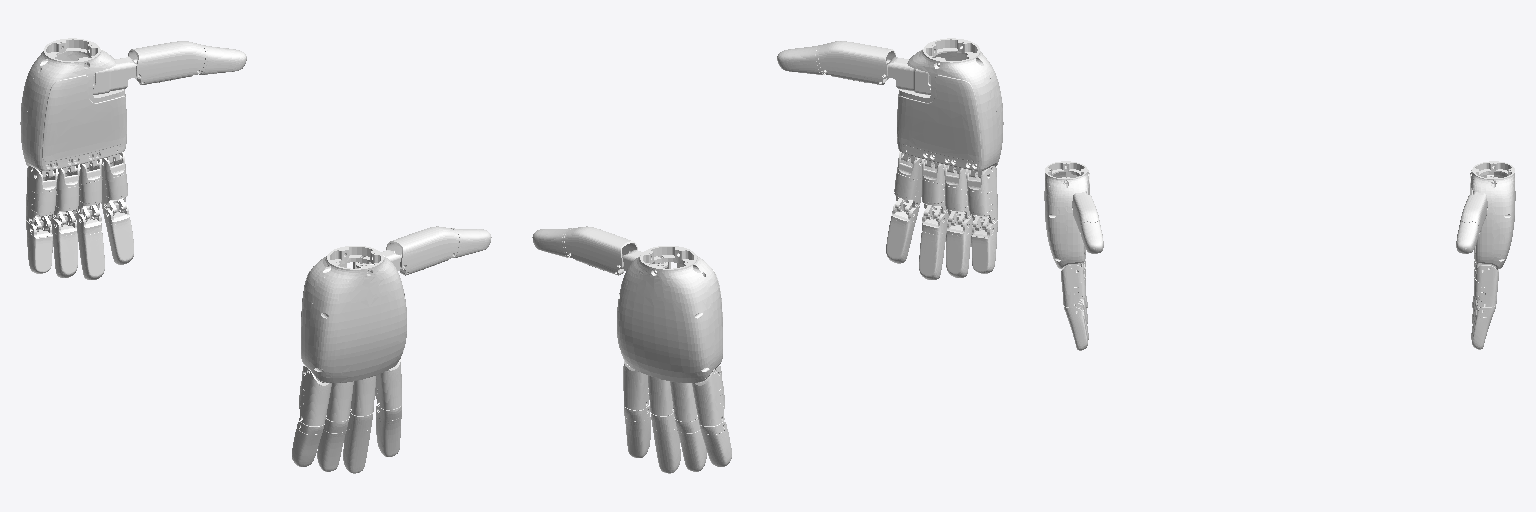
--- Facts derived from the render (not from the file) ---
Views: 3 orthographic renders of the robot side by side, from view 1: azimuth 30°, elevation 25°; view 2: azimuth 150°, elevation 25°; view 3: azimuth 270°, elevation 25°.
Robot: GR1T2_fourier_hand_12dof — 73 links, 72 joints (56 revolute, 16 fixed); root link base_link; default pose: all joints at 0.
Links seen in each view (by area): view 1: R_hand_base_link, L_hand_base_link, L_thumb_proximal_pitch_link, R_thumb_proximal_pitch_link, L_middle_intermediate_link, L_ring_intermediate_link, L_index_intermediate_link, R_pinky_proximal_link, L_pinky_proximal_link, R_middle_intermediate_link, L_pinky_intermediate_link, R_ring_intermediate_link (+11 smaller); view 2: L_hand_base_link, R_hand_base_link, R_thumb_proximal_pitch_link, L_thumb_proximal_pitch_link, R_middle_intermediate_link, R_ring_intermediate_link, R_index_intermediate_link, L_pinky_proximal_link, R_pinky_proximal_link, L_middle_intermediate_link, R_pinky_intermediate_link, L_index_intermediate_link (+11 smaller); view 3: L_hand_base_link, R_hand_base_link, R_index_proximal_link, L_index_proximal_link, R_index_intermediate_link, L_index_intermediate_link, R_thumb_proximal_pitch_link, L_thumb_proximal_pitch_link, L_thumb_distal_link, R_thumb_distal_link.
Link boxes in pixels (x1=…): R_hand_base_link: x1=301, y1=246, x2=406, y2=382; L_hand_base_link: x1=20, y1=38, x2=126, y2=178; L_thumb_proximal_pitch_link: x1=128, y1=41, x2=205, y2=84; R_thumb_proximal_pitch_link: x1=386, y1=226, x2=459, y2=275; L_middle_intermediate_link: x1=75, y1=205, x2=104, y2=279; L_ring_intermediate_link: x1=51, y1=211, x2=77, y2=277; L_index_intermediate_link: x1=102, y1=198, x2=133, y2=264; R_pinky_proximal_link: x1=299, y1=366, x2=331, y2=425; L_pinky_proximal_link: x1=26, y1=166, x2=57, y2=223; R_middle_intermediate_link: x1=343, y1=413, x2=372, y2=473; L_pinky_intermediate_link: x1=26, y1=216, x2=52, y2=273; R_ring_intermediate_link: x1=317, y1=418, x2=348, y2=471; L_hand_base_link: x1=617, y1=246, x2=722, y2=382; R_hand_base_link: x1=897, y1=38, x2=1003, y2=178; R_thumb_proximal_pitch_link: x1=818, y1=41, x2=895, y2=84; L_thumb_proximal_pitch_link: x1=564, y1=226, x2=637, y2=275; R_middle_intermediate_link: x1=919, y1=205, x2=948, y2=279; R_ring_intermediate_link: x1=946, y1=211, x2=972, y2=277; R_index_intermediate_link: x1=886, y1=198, x2=919, y2=263; L_pinky_proximal_link: x1=692, y1=366, x2=724, y2=425; R_pinky_proximal_link: x1=966, y1=166, x2=997, y2=223; L_middle_intermediate_link: x1=651, y1=413, x2=680, y2=473; R_pinky_intermediate_link: x1=971, y1=216, x2=997, y2=273; L_index_intermediate_link: x1=624, y1=404, x2=650, y2=457; L_hand_base_link: x1=1470, y1=161, x2=1515, y2=268; R_hand_base_link: x1=1044, y1=161, x2=1089, y2=268; R_index_proximal_link: x1=1061, y1=263, x2=1085, y2=307; L_index_proximal_link: x1=1474, y1=263, x2=1498, y2=306; R_index_intermediate_link: x1=1064, y1=301, x2=1087, y2=350; L_index_intermediate_link: x1=1472, y1=300, x2=1495, y2=349; R_thumb_proximal_pitch_link: x1=1072, y1=195, x2=1099, y2=233; L_thumb_proximal_pitch_link: x1=1460, y1=195, x2=1487, y2=233; L_thumb_distal_link: x1=1456, y1=221, x2=1478, y2=253; R_thumb_distal_link: x1=1081, y1=221, x2=1103, y2=253.
Size in the robot's own frame: 0.1911 by 0.504 by 0.2001 metres.
26 mesh visuals loaded from 61 distinct referenced files (26 binary STL); not drawn: 35 (file found but could not be loaded).

robot.urdf — GR1T2_fourier_hand_12dof:
<?xml version="1.0" encoding="utf-8"?>

<!-- 02282025-alpha-1 -->

<robot
  name="GR1T2_fourier_hand_12dof">
  <link
    name="base_link">
    <inertial>
      <origin
        xyz="-0.06032 -9.9E-5 -0.008574"
        rpy="0 0 0" />
      <mass
        value="3.96" />
      <inertia
        ixx="0.04109"
        ixy="-6E-6"
        ixz="-0.001996"
        iyy="0.01336"
        iyz="-9E-6"
        izz="0.04269" />
    </inertial>
    <visual>
      <origin
        xyz="0 0 0"
        rpy="0 0 0" />
      <geometry>
        <mesh
          filename="../meshes/gr1t2/base_link.STL" />
      </geometry>
      <material
        name="">
        <color
          rgba="0.752941176470588 0.752941176470588 0.752941176470588 1" />
      </material>
    </visual>
    <collision name="base_link.STL">
      <origin xyz="-0.0425828586396115 0.0003700415157537537 0.009210089875386126" rpy="-1.5715560967510487 0.006752722386712318 -0.006757854813246755"/>
      <geometry>
        <cylinder radius="0.12239433188500067" length="0.1371007021179978"/>
      </geometry>
    </collision>
  </link>
  <link
    name="left_thigh_roll_link">
    <inertial>
      <origin
        xyz="0.001095 2.4e-5 0.001761"
        rpy="0 0 0" />
      <mass
        value="1.47" />
      <inertia
        ixx="0.001575"
        ixy="4e-6"
        ixz="-6e-6"
        iyy="0.002478"
        iyz="-9e-6"
        izz="0.002575" />
    </inertial>
    <visual>
      <origin
        xyz="0 0 0"
        rpy="0 0 0" />
      <geometry>
        <mesh
          filename="../meshes/gr1t2/left_thigh_roll_link.STL" />
      </geometry>
      <material
        name="">
        <color
          rgba="0.752941176470588 0.752941176470588 0.752941176470588 1" />
      </material>
    </visual>
    <!-- <collision>
      <origin
        xyz="0 0 0"
        rpy="0 0 0" />
      <geometry>
        <mesh
          filename="../meshes/gr1t2/left_thigh_roll_link.STL" />
      </geometry>
    </collision> -->
  </link>
  <joint
    name="left_hip_roll_joint"
    type="revolute">
    <origin
      xyz="-0.031635 0.105 -0.0276"
      rpy="0 0 0" />
    <parent
      link="base_link" />
    <child
      link="left_thigh_roll_link" />
    <axis
      xyz="1 0 0" />
    <limit
      lower="-0.09"
      upper="0.79"
      effort="48"
      velocity="12.15" />
  </joint>
  <link
    name="left_thigh_yaw_link">
    <inertial>
      <origin
        xyz="-0.000705 0.0384 -0.1103"
        rpy="0 0 0" />
      <mass
        value="3.47" />
      <inertia
        ixx="0.02003"
        ixy="-0.00165"
        ixz="0.000145"
        iyy="0.02123"
        iyz="0.005516"
        izz="0.01146" />
    </inertial>
    <visual>
      <origin
        xyz="0 0 0"
        rpy="0 0 0" />
      <geometry>
        <mesh
          filename="../meshes/gr1t2/left_thigh_yaw_link.STL" />
      </geometry>
      <material
        name="">
        <color
          rgba="0.752941176470588 0.752941176470588 0.752941176470588 1" />
      </material>
    </visual>
    <!-- <collision>
      <origin
        xyz="0 0 0"
        rpy="0 0 0" />
      <geometry>
        <mesh
          filename="../meshes/gr1t2/left_thigh_yaw_link.STL" />
      </geometry>
    </collision> -->
  </link>
  <joint
    name="left_hip_yaw_joint"
    type="revolute">
    <origin
      xyz="0.033135 0 0.00075"
      rpy="0 0 0" />
    <parent
      link="left_thigh_roll_link" />
    <child
      link="left_thigh_yaw_link" />
    <axis
      xyz="0 0 1" />
    <limit
      lower="-0.7"
      upper="0.7"
      effort="66"
      velocity="16.76" />
  </joint>
  <link
    name="left_thigh_pitch_link">
    <inertial>
      <origin
        xyz="0.001387 -0.02832 -0.0640"
        rpy="0 0 0" />
      <mass
        value="8.35" />
      <inertia
        ixx="0.09287"
        ixy="0.000089"
        ixz="0.001262"
        iyy="0.08956"
        iyz="-0.001832"
        izz="0.02835" />
    </inertial>
    <visual>
      <origin
        xyz="0 0 0"
        rpy="0 0 0" />
      <geometry>
        <mesh
          filename="../meshes/gr1t2/left_thigh_pitch_link.STL" />
      </geometry>
      <material
        name="">
        <color
          rgba="0.752941176470588 0.752941176470588 0.752941176470588 1" />
      </material>
    </visual>
    <collision name="left_thigh_pitch_link.STL">
      <origin xyz="0.0007000513673618543 -0.030 -0.1670560397414535" rpy="0 0 0 "/>
      <geometry>
        <cylinder radius="0.082" length="0.24982894507630515"/>
      </geometry>
    </collision>
  </link>
  <joint
    name="left_hip_pitch_joint"
    type="revolute">
    <origin
      xyz="0 0.0223 -0.14027"
      rpy="0 0 0" />
    <parent
      link="left_thigh_yaw_link" />
    <child
      link="left_thigh_pitch_link" />
    <axis
      xyz="0 1 0" />
    <limit
      lower="-1.75"
      upper="0.7"
      effort="225"
      velocity="37.38" />
  </joint>
  <link
    name="left_shank_pitch_link">
    <inertial>
      <origin
        xyz="0.001482 -0.00080 -0.1154"
        rpy="0 0 0" />
      <mass
        value="1.76" />
      <inertia
        ixx="0.01079"
        ixy="-7e-6"
        ixz="-0.000149"
        iyy="0.01068"
        iyz="-0.000146"
        izz="0.001262" />
    </inertial>
    <visual>
      <origin
        xyz="0 0 0"
        rpy="0 0 0" />
      <geometry>
        <mesh
          filename="../meshes/gr1t2/left_shank_pitch_link.STL" />
      </geometry>
      <material
        name="">
        <color
          rgba="0.752941176470588 0.752941176470588 0.752941176470588 1" />
      </material>
    </visual>
    <collision name="left_shank_pitch_link.STL">
      <origin xyz="-1.659010853856773e-05 -0.000842546786771745 -0.17469107292397335" rpy="-3.1410836913690487 0.0024586308191354433 -2.733338485212507"/>
      <geometry>
        <cylinder radius="0.05332138187428352" length="0.18076995129198576"/>
      </geometry>
    </collision>
  </link>
  <joint
    name="left_knee_pitch_joint"
    type="revolute">
    <origin
      xyz="0 -0.019512 -0.36"
      rpy="0 0 0" />
    <parent
      link="left_thigh_pitch_link" />
    <child
      link="left_shank_pitch_link" />
    <axis
      xyz="0 1 0" />
    <limit
      lower="-0.09"
      upper="1.92"
      effort="225"
      velocity="37.38" />
  </joint>
  <link
    name="left_foot_pitch_link">
    <inertial>
      <origin
        xyz="0 0 0"
        rpy="0 0 0" />
      <mass
        value="0.057" />
      <inertia
        ixx="5.31E-6"
        ixy="0"
        ixz="0"
        iyy="5.65E-6"
        iyz="0"
        izz="6.36E-6" />
    </inertial>
    <visual>
      <origin
        xyz="0 0 0"
        rpy="0 0 0" />
      <geometry>
        <mesh
          filename="../meshes/gr1t2/left_foot_pitch_link.STL" />
      </geometry>
      <material
        name="">
        <color
          rgba="0.752941176470588 0.752941176470588 0.752941176470588 1" />
      </material>
    </visual>
    <!-- <collision>
      <origin
        xyz="0 0 0"
        rpy="0 0 0" />
      <geometry>
        <mesh
          filename="../meshes/gr1t2/left_foot_pitch_link.STL" />
      </geometry>
    </collision> -->
  </link>
  <joint
    name="left_ankle_pitch_joint"
    type="revolute">
    <origin
      xyz="0 -0.00125 -0.34"
      rpy="0 0 0" />
    <parent
      link="left_shank_pitch_link" />
    <child
      link="left_foot_pitch_link" />
    <axis
      xyz="0 1 0" />
    <limit
      lower="-1.05"
      upper="0.52"
      effort="15"
      velocity="20.32" />
  </joint>
  <link
    name="left_foot_roll_link">
    <inertial>
      <origin
        xyz="0.0367 0.0001 -0.03837"
        rpy="0 0 0" />
      <mass
        value="1.07" />
      <inertia
        ixx="0.0007664"
        ixy="3.75E-6"
        ixz="0.0002441"
        iyy="0.005085"
        iyz="-1.53E-6"
        izz="0.005559" />
    </inertial>
    <visual>
      <origin
        xyz="0 0 0"
        rpy="0 0 0" />
      <geometry>
        <mesh
          filename="../meshes/gr1t2/left_foot_roll_link.STL" />
      </geometry>
      <material
        name="">
        <color
          rgba="0.752941176470588 0.752941176470588 0.752941176470588 1" />
      </material>
    </visual>
    <collision name="l_foot_1">
      <origin rpy="0 1.5708 0" xyz="0.05 0.02 -0.035" />
      <geometry>
        <cylinder length="0.24" radius="0.02" />
      </geometry>
    </collision>
    <collision name="l_foot_2">
      <origin rpy="0 1.5708 0" xyz="0.05 -0.02 -0.035" />
      <geometry>
        <cylinder length="0.24" radius="0.02" />
      </geometry>
    </collision>
  </link>
  <joint
    name="left_ankle_roll_joint"
    type="revolute">
    <origin
      xyz="0 0 0"
      rpy="0 0 0" />
    <parent
      link="left_foot_pitch_link" />
    <child
      link="left_foot_roll_link" />
    <axis
      xyz="1 0 0" />
    <limit
      lower="-0.44"
      upper="0.44"
      effort="30"
      velocity="20.32" />
  </joint>
  <link
    name="right_thigh_roll_link">
    <inertial>
      <origin
        xyz="0.001319 -9.8e-5 0.001752"
        rpy="0 0 0" />
      <mass
        value="1.47" />
      <inertia
        ixx="0.001572"
        ixy="1.2e-5"
        ixz="-5e-6"
        iyy="0.002502"
        iyz="6e-6"
        izz="0.002594" />
    </inertial>
    <visual>
      <origin
        xyz="0 0 0"
        rpy="0 0 0" />
      <geometry>
        <mesh
          filename="../meshes/gr1t2/right_thigh_roll_link.STL" />
      </geometry>
      <material
        name="">
        <color
          rgba="0.752941176470588 0.752941176470588 0.752941176470588 1" />
      </material>
    </visual>
    <!-- <collision>
      <origin
        xyz="0 0 0"
        rpy="0 0 0" />
      <geometry>
        <mesh
          filename="../meshes/gr1t2/right_thigh_roll_link.STL" />
      </geometry>
    </collision> -->
  </link>
  <joint
    name="right_hip_roll_joint"
    type="revolute">
    <origin
      xyz="-0.031635 -0.105 -0.0276"
      rpy="0 0 0" />
    <parent
      link="base_link" />
    <child
      link="right_thigh_roll_link" />
    <axis
      xyz="1 0 0" />
    <limit
      lower="-0.79"
      upper="0.09"
      effort="48"
      velocity="12.15" />
  </joint>
  <link
    name="right_thigh_yaw_link">
    <inertial>
      <origin
        xyz="-0.000705 -0.03841 -0.1104"
        rpy="0 0 0" />
      <mass
        value="3.47" />
      <inertia
        ixx="0.01912"
        ixy="-5.8e-5"
        ixz="0.0000146"
        iyy="0.02124"
        iyz="-0.005568"
        izz="0.01149" />
    </inertial>
    <visual>
      <origin
        xyz="0 0 0"
        rpy="0 0 0" />
      <geometry>
        <mesh
          filename="../meshes/gr1t2/right_thigh_yaw_link.STL" />
      </geometry>
      <material
        name="">
        <color
          rgba="0.752941176470588 0.752941176470588 0.752941176470588 1" />
      </material>
    </visual>
    <!-- <collision>
      <origin
        xyz="0 0 0"
        rpy="0 0 0" />
      <geometry>
        <mesh
          filename="../meshes/gr1t2/right_thigh_yaw_link.STL" />
      </geometry>
    </collision> -->
  </link>
  <joint
    name="right_hip_yaw_joint"
    type="revolute">
    <origin
      xyz="0.033135 0 0.00075"
      rpy="0 0 0" />
    <parent
      link="right_thigh_roll_link" />
    <child
      link="right_thigh_yaw_link" />
    <axis
      xyz="0 0 1" />
    <limit
      lower="-0.7"
      upper="0.7"
      effort="66"
      velocity="16.76" />
  </joint>
  <link
    name="right_thigh_pitch_link">
    <inertial>
      <origin
        xyz="0.001386 0.02815 -0.06399"
        rpy="0 0 0" />
      <mass
        value="8.35" />
      <inertia
        ixx="0.09315"
        ixy="9e-5"
        ixz="0.001548"
        iyy="0.08956"
        iyz="-0.001825"
        izz="0.028" />
    </inertial>
    <visual>
      <origin
        xyz="0 0 0"
        rpy="0 0 0" />
      <geometry>
        <mesh
          filename="../meshes/gr1t2/right_thigh_pitch_link.STL" />
      </geometry>
      <material
        name="">
        <color
          rgba="0.752941176470588 0.752941176470588 0.752941176470588 1" />
      </material>
    </visual>
    <collision name="right_thigh_pitch_link.STL">
      <origin xyz="-0.0021232671369708286 0.030 -0.16705638592" rpy="0.005397062281218166 0.014125499755146664 3.8118827309907216e-05"/>
      <geometry>
        <cylinder radius="0.082" length="0.24982123520352716"/>
      </geometry>
    </collision>
  </link>
  <joint
    name="right_hip_pitch_joint"
    type="revolute">
    <origin
      xyz="0 -0.0223 -0.14027"
      rpy="0 0 0" />
    <parent
      link="right_thigh_yaw_link" />
    <child
      link="right_thigh_pitch_link" />
    <axis
      xyz="0 1 0" />
    <limit
      lower="-1.75"
      upper="0.7"
      effort="225"
      velocity="37.38" />
  </joint>
  <link
    name="right_shank_pitch_link">
    <inertial>
      <origin
        xyz="0.001486 0.000785 -0.1152"
        rpy="0 0 0" />
      <mass
        value="1.76" />
      <inertia
        ixx="0.01075"
        ixy="7e-6"
        ixz="-8.7e-5"
        iyy="0.01063"
        iyz="0.00014"
        izz="0.001242" />
    </inertial>
    <visual>
      <origin
        xyz="0 0 0"
        rpy="0 0 0" />
      <geometry>
        <mesh
          filename="../meshes/gr1t2/right_shank_pitch_link.STL" />
      </geometry>
      <material
        name="">
        <color
          rgba="0.752941176470588 0.752941176470588 0.752941176470588 1" />
      </material>
    </visual>
    <collision name="right_shank_pitch_link.STL">
      <origin xyz="-1.6590107921902e-5 -0.000842557381796573 -0.17469872467626" rpy="0 0 0"/>
      <geometry>
        <cylinder radius="0.053321055277056" length="0.180768239886"/>
      </geometry>
    </collision>
  </link>
  <joint
    name="right_knee_pitch_joint"
    type="revolute">
    <origin
      xyz="0 0.019762 -0.36"
      rpy="0 0 0" />
    <parent
      link="right_thigh_pitch_link" />
    <child
      link="right_shank_pitch_link" />
    <axis
      xyz="0 1 0" />
    <limit
      lower="-0.09"
      upper="1.92"
      effort="225"
      velocity="37.38" />
  </joint>
  <link
    name="right_foot_pitch_link">
    <inertial>
      <origin
        xyz="0 0 0"
        rpy="0 0 0" />
      <mass
        value="0.057" />
      <inertia
        ixx="5.31E-6"
        ixy="0"
        ixz="0"
        iyy="5.56E-6"
        iyz="0"
        izz="6.36E-6" />
    </inertial>
    <visual>
      <origin
        xyz="0 0 0"
        rpy="0 0 0" />
      <geometry>
        <mesh
          filename="../meshes/gr1t2/right_foot_pitch_link.STL" />
      </geometry>
      <material
        name="">
        <color
          rgba="0.752941176470588 0.752941176470588 0.752941176470588 1" />
      </material>
    </visual>
    <!-- <collision>
      <origin
        xyz="0 0 0"
        rpy="0 0 0" />
      <geometry>
        <mesh
          filename="../meshes/gr1t2/right_foot_pitch_link.STL" />
      </geometry>
    </collision> -->
  </link>
  <joint
    name="right_ankle_pitch_joint"
    type="revolute">
    <origin
      xyz="0 0.00125 -0.34"
      rpy="0 0 0" />
    <parent
      link="right_shank_pitch_link" />
    <child
      link="right_foot_pitch_link" />
    <axis
      xyz="0 1 0" />
    <limit
      lower="-1.05"
      upper="0.52"
      effort="15"
      velocity="20.32" />
  </joint>
  <link
    name="right_foot_roll_link">
    <inertial>
      <origin
        xyz="0.0367 -0.0001 -0.03837"
        rpy="0 0 0" />
      <mass
        value="1.07" />
      <inertia
        ixx="0.0007664"
        ixy="-3.75E-6"
        ixz="0.0002441"
        iyy="0.005085"
        iyz="1.53E-6"
        izz="0.005559" />
    </inertial>
    <visual>
      <origin
        xyz="0 0 0"
        rpy="0 0 0" />
      <geometry>
        <mesh
          filename="../meshes/gr1t2/right_foot_roll_link.STL" />
      </geometry>
      <material
        name="">
        <color
          rgba="0.752941176470588 0.752941176470588 0.752941176470588 1" />
      </material>
    </visual>
    <collision name="r_foot_1">
      <origin rpy="0 1.5708 0" xyz="0.05 0.02 -0.035" />
      <geometry>
        <cylinder length="0.24" radius="0.02" />
      </geometry>
    </collision>
    <collision name="r_foot_2">
      <origin rpy="0 1.5708 0" xyz="0.05 -0.02 -0.035" />
      <geometry>
        <cylinder length="0.24" radius="0.02" />
      </geometry>
    </collision>
  </link>
  <joint
    name="right_ankle_roll_joint"
    type="revolute">
    <origin
      xyz="0 0 0"
      rpy="0 0 0" />
    <parent
      link="right_foot_pitch_link" />
    <child
      link="right_foot_roll_link" />
    <axis
      xyz="1 0 0" />
    <limit
      lower="-0.44"
      upper="0.44"
      effort="30"
      velocity="20.32" />
  </joint>
  <link
    name="waist_yaw_link">
    <inertial>
      <origin
        xyz="-0.00152 -0.00691 0.05223"
        rpy="0 0 0" />
      <mass
        value="1.66" />
      <inertia
        ixx="0.003573"
        ixy="1.476E-05"
        ixz="5.805E-05"
        iyy="0.0031429"
        iyz="0.00039781"
        izz="0.0023119" />
    </inertial>
    <visual>
      <origin
        xyz="0 0 0"
        rpy="0 0 0" />
      <geometry>
        <mesh
          filename="../meshes/gr1t2/waist_yaw_link.STL" />
      </geometry>
      <material
        name="">
        <color
          rgba="0.752941176470588 0.752941176470588 0.752941176470588 1" />
      </material>
    </visual>
    <!-- <collision>
      <origin
        xyz="0 0 0"
        rpy="0 0 0" />
      <geometry>
        <mesh
          filename="../meshes/gr1t2/waist_yaw_link.STL" />
      </geometry>
    </collision> -->
  </link>
  <joint
    name="waist_yaw_joint"
    type="revolute">
    <origin
      xyz="0 0 0"
      rpy="0 0 0" />
    <parent
      link="base_link" />
    <child
      link="waist_yaw_link" />
    <axis
      xyz="0 0 1" />
    <limit
      lower="-1.05"
      upper="1.05"
      effort="66"
      velocity="16.76" />
  </joint>
  <link
    name="waist_pitch_link">
    <inertial>
      <origin
        xyz="0.004581 -0.004697 0.04034"
        rpy="0 0 0" />
      <mass
        value="1.54" />
      <inertia
        ixx="0.0046064" 
        ixy="-2.297E-05"
        ixz="-0.00026084"
        iyy="0.0045722"
        iyz="-0.00024591"
        izz="0.0018747" />
    </inertial>
    <visual>
      <origin
        xyz="0 0 0"
        rpy="0 0 0" />
      <geometry>
        <mesh
          filename="../meshes/gr1t2/waist_pitch_link.STL" />
      </geometry>
      <material
        name="">
        <color
          rgba="0.752941176470588 0.752941176470588 0.752941176470588 1" />
      </material>
    </visual>
    <!-- <collision>
      <origin
        xyz="0 0 0"
        rpy="0 0 0" />
      <geometry>
        <mesh
          filename="../meshes/gr1t2/waist_pitch_link.STL" />
      </geometry>
    </collision> -->
  </link>
  <joint
    name="waist_pitch_joint"
    type="revolute">
    <origin
      xyz="0 0 0.0869"
      rpy="0 0 0" />
    <parent
      link="waist_yaw_link" />
    <child
      link="waist_pitch_link" />
    <axis
      xyz="0 1 0" />
    <limit
      lower="-0.52"
      upper="1.22"
      effort="66"
      velocity="16.76" />
  </joint>
  <link
    name="waist_roll_link">
    <inertial>
      <origin
        xyz="0.00823 0.00004 0.01227"
        rpy="0 0 0" />
      <mass
        value="0.96" />
      <inertia
        ixx="0.00100959" 
        ixy="4.9E-7"
        ixz="9.99E-5"
        iyy="1.30981E-3"
        iyz="-5.3E-7"
        izz="1.16922E-3"/>
    </inertial>
    <visual>
      <origin
        xyz="0 0 0"
        rpy="0 0 0" />
      <geometry>
        <mesh
          filename="../meshes/gr1t2/waist_roll_link.STL" />
      </geometry>
      <material
        name="">
        <color
          rgba="0.752941176470588 0.752941176470588 0.752941176470588 1" />
      </material>
    </visual>
    <!-- <collision>
      <origin
        xyz="0 0 0"
        rpy="0 0 0" />
      <geometry>
        <mesh
          filename="../meshes/gr1t2/waist_roll_link.STL" />
      </geometry>
    </collision> -->
  </link>
  <joint
    name="waist_roll_joint"
    type="revolute">
    <origin
      xyz="0.00525 -0.0005 0.081"
      rpy="0 0 0" />
    <parent
      link="waist_pitch_link" />
    <child
      link="waist_roll_link" />
    <axis
      xyz="1 0 0" />
    <limit
      lower="-0.7"
      upper="0.7"
      effort="66"
      velocity="16.76" />
  </joint>
  <link
    name="torso_link">
    <inertial>
      <origin
        xyz="-0.01325 0.000292 0.009517"
        rpy="0 0 0" />
      <mass
        value="5.67" />
      <inertia
        ixx="0.04082"
        ixy="-2e-6"
        ixz="-0.00047"
        iyy="0.03729"
        iyz="-1.4e-5"
        izz="0.03397" />
    </inertial>
    <visual>
      <origin
        xyz="0 0 0"
        rpy="0 0 0" />
      <geometry>
        <mesh
          filename="../meshes/gr1t2/torso_link.STL" />
      </geometry>
      <material
        name="">
        <color
          rgba="0.752941176470588 0.752941176470588 0.752941176470588 1" />
      </material>
    </visual>
    <collision name="torso_link.STL">
      <origin xyz="-0.0158159258618006 0.005195369607133852 -0.01252051000214107" rpy="0 0 0"/>
      <geometry>
        <cylinder radius="0.15742740516179015" length="0.0603859984881334"/>
      </geometry>
    </collision>
  </link>
  <joint
    name="torso_joint"
    type="fixed">
    <origin
      xyz="-0.00225 0.00057443 0.16035"
      rpy="0 0 0" />
    <parent
      link="waist_roll_link" />
    <child
      link="torso_link" />
    <axis
      xyz="0 0 0" />
  </joint>
  <link
    name="left_upper_arm_pitch_link">
    <inertial>
      <origin
        xyz="0.0033 0.05361 -0.00011"
        rpy="0 0 0" />
      <mass
        value="0.82" />
      <inertia
        ixx="2.04209E-3"
        ixy="-1.0845E-4"
        ixz="-5.7E-6"
        iyy="5.02E-4"
        iyz="-2.88E-6"
        izz="1.98176E-3" />
    </inertial>
    <visual>
      <origin
        xyz="0 0 0"
        rpy="0 0 0" />
      <geometry>
        <mesh
          filename="../meshes/gr1t2/left_upper_arm_pitch_link.STL" />
      </geometry>
      <material
        name="">
        <color
          rgba="0.752941176470588 0.752941176470588 0.752941176470588 1" />
      </material>
    </visual>
    <!-- <collision>
      <origin
        xyz="0 0 0"
        rpy="0 0 0" />
      <geometry>
        <mesh
          filename="../meshes/gr1t2/left_upper_arm_pitch_link.STL" />
      </geometry>
    </collision> -->
  </link>
  <joint
    name="left_shoulder_pitch_joint"
    type="revolute">
    <origin
      xyz="0 0.10128 0.046651"
      rpy="0.43275 0 0" />
    <parent
      link="torso_link" />
    <child
      link="left_upper_arm_pitch_link" />
    <axis
      xyz="0 1 0" />
    <limit
      lower="-2.79"
      upper="1.92"
      effort="38"
      velocity="9.11" />
  </joint>
  <link
    name="left_upper_arm_roll_link">
    <inertial>
      <origin
        xyz="0.005026 0.01740 -0.02398"
        rpy="0 0 0" />
      <mass
        value="0.61" />
      <inertia
        ixx="0.0010175"
        ixy="8.5E-07"
        ixz="-2.686E-05"
        iyy="0.00080346"
        iyz="0.00031013"
        izz="0.00056524" />
    </inertial>
    <visual>
      <origin
        xyz="0 0 0"
        rpy="0 0 0" />
      <geometry>
        <mesh
          filename="../meshes/gr1t2/left_upper_arm_roll_link.STL" />
      </geometry>
      <material
        name="">
        <color
          rgba="0.752941176470588 0.752941176470588 0.752941176470588 1" />
      </material>
    </visual>
    <!-- <collision>
      <origin
        xyz="0 0 0"
        rpy="0 0 0" />
      <geometry>
        <mesh
          filename="../meshes/gr1t2/left_upper_arm_roll_link.STL" />
      </geometry>
    </collision> -->
  </link>
  <joint
    name="left_shoulder_roll_joint"
    type="revolute">
    <origin
      xyz="0 0.09515 0"
      rpy="-0.43275 0 0" />
    <parent
      link="left_upper_arm_pitch_link" />
    <child
      link="left_upper_arm_roll_link" />
    <axis
      xyz="1 0 0" />
    <limit
      lower="-0.57"
      upper="2.53"
      effort="38"
      velocity="9.11" />
  </joint>
  <link
    name="left_upper_arm_yaw_link">
    <inertial>
      <origin
        xyz="-1.7E-5 -0.0002 -0.08761"
        rpy="0 0 0" />
      <mass
        value="0.54" />
      <inertia
        ixx="0.0035571"
        ixy="-1.6E-07"
        ixz="-7.1E-07"
        iyy="0.003544"
        iyz="4.560E-05"
        izz="0.00026034" />
    </inertial>
    <visual>
      <origin
        xyz="0 0 0"
        rpy="0 0 0" />
      <geometry>
        <mesh
          filename="../meshes/gr1t2/left_upper_arm_yaw_link.STL" />
      </geometry>
      <material
        name="">
        <color
          rgba="0.752941176470588 0.752941176470588 0.752941176470588 1" />
      </material>
    </visual>
    <collision name="left_upper_arm_yaw_link.STL">
      <origin xyz="3.948544275722503e-05 -0.0008942898235348745 -0.079340036492981" rpy="-3.1255954464984725 0.0015124792767218231 -0.1885285227575202"/>
      <geometry>
        <cylinder radius="0.03623321337242011" length="0.1698839909625244"/>
      </geometry>
    </collision>
  </link>
  <joint
    name="left_shoulder_yaw_joint"
    type="revolute">
    <origin
      xyz="0 0.04 -0.0709"
      rpy="0 0 0" />
    <parent
      link="left_upper_arm_roll_link" />
    <child
      link="left_upper_arm_yaw_link" />
    <axis
      xyz="0 0 1" />
    <limit
      lower="-2.97"
      upper="2.97"
      effort="30"
      velocity="7.33" />
  </joint>
  <link
    name="left_lower_arm_pitch_link">
    <inertial>
      <origin
        xyz="0 0.008102 -0.02528"
        rpy="0 0 0" />
      <mass
        value="0.33" />
      <inertia
        ixx="0.00029558"
        ixy="2E-08"
        ixz="7E-08"
        iyy="0.000287"
        iyz="-5.014E-05"
        izz="0.00011171" />
    </inertial>
    <visual>
      <origin
        xyz="0 0 0"
        rpy="0 0 0" />
      <geometry>
        <mesh
          filename="../meshes/gr1t2/left_lower_arm_pitch_link.STL" />
      </geometry>
      <material
        name="">
        <color
          rgba="0.752941176470588 0.752941176470588 0.752941176470588 1" />
      </material>
    </visual>
    <!-- <collision>
      <origin
        xyz="0 0 0"
        rpy="0 0 0" />
      <geometry>
        <mesh
          filename="../meshes/gr1t2/left_lower_arm_pitch_link.STL" />
      </geometry>
    </collision> -->
  </link>
  <joint
    name="left_elbow_pitch_joint"
    type="revolute">
    <origin
      xyz="0 0.0010503 -0.1786"
      rpy="0 0 0" />
    <parent
      link="left_upper_arm_yaw_link" />
    <child
      link="left_lower_arm_pitch_link" />
    <axis
      xyz="0 1 0" />
    <limit
      lower="-2.27"
      upper="2.27"
      effort="30"
      velocity="7.33" />
  </joint>
  <link
    name="left_hand_yaw_link">
    <inertial>
      <origin
        xyz="0.00044 0.00196 -0.07313"
        rpy="0 0 0" />
      <mass
        value="0.99" />
      <inertia
        ixx="0.0026215"
        ixy="1.29E-06"
        ixz="6.12E-06"
        iyy="0.0025491"
        iyz="-1.585E-05"
        izz="0.00049784" />
    </inertial>
    <visual>
      <origin
        xyz="0 0 0"
        rpy="0 0 0" />
      <geometry>
        <mesh
          filename="../meshes/gr1t2/left_hand_yaw_link.STL" />
      </geometry>
      <material
        name="">
        <color
          rgba="0.752941176470588 0.752941176470588 0.752941176470588 1" />
      </material>
    </visual>
    <collision name="left_hand_yaw_link.STL">
      <origin xyz="0.0010892501812804515 -0.0015411136604867 -0.07604285011805535" rpy="0 0 0"/>
      <geometry>
        <cylinder radius="0.04157192402358859" length="0.1391873595177893"/>
      </geometry>
    </collision>
  </link>
  <joint
    name="left_wrist_yaw_joint"
    type="revolute">
    <origin
      xyz="0 0 -0.05945"
      rpy="0 0 0" />
    <parent
      link="left_lower_arm_pitch_link" />
    <child
      link="left_hand_yaw_link" />
    <axis
      xyz="0 0 1" />
    <limit
      lower="-2.97"
      upper="2.97"
      effort="10.2"
      velocity="24.4" />
  </joint>
  <link
    name="left_hand_roll_link">
    <inertial>
      <origin
        xyz="0 0 0"
        rpy="0 0 0" />
      <mass
        value="0.005" />
      <inertia
        ixx="7E-8"
        ixy="0"
        ixz="0"
        iyy="3.5E-7"
        iyz="0"
        izz="3.5E-7" />
    </inertial>
    <visual>
      <origin
        xyz="0 0 0"
        rpy="0 0 0" />
      <geometry>
        <mesh
          filename="../meshes/gr1t2/left_hand_roll_link.STL" />
      </geometry>
      <material
        name="">
        <color
          rgba="0.752941176470588 0.752941176470588 0.752941176470588 1" />
      </material>
    </visual>
    <!-- <collision>
      <origin
        xyz="0 0 0"
        rpy="0 0 0" />
      <geometry>
        <mesh
          filename="../meshes/gr1t2/left_hand_roll_link.STL" />
      </geometry>
    </collision> -->
  </link>
  <joint
    name="left_wrist_roll_joint"
    type="revolute">
    <origin
      xyz="0 0 -0.19115"
      rpy="0 0 0" />
    <parent
      link="left_hand_yaw_link" />
    <child
      link="left_hand_roll_link" />
    <axis
      xyz="1 0 0" />
    <limit
      lower="-0.87"
      upper="0.96"
      effort="3.95"
      velocity="27.96" />
  </joint>
  <link
    name="left_hand_pitch_link">
    <inertial>
      <origin
        xyz="0 0.00567 -0.00938"
        rpy="0 0 0" />
      <mass
        value="0.05" />
      <inertia
        ixx="1.065E-5"
        ixy="0"
        ixz="0"
        iyy="1.947E-5"
        iyz="-1.1E-6"
        izz="2.011E-5" />
    </inertial>
    <visual>
      <origin
        xyz="0 0 0"
        rpy="0 0 0" />
      <geometry>
        <mesh
          filename="../meshes/gr1t2/left_hand_pitch_link.STL" />
      </geometry>
      <material
        name="">
        <color
          rgba="0.752941176470588 0.752941176470588 0.752941176470588 1" />
      </material>
    </visual>
    <!-- <collision>
      <origin
        xyz="0 0 0"
        rpy="0 0 0" />
      <geometry>
        <mesh
          filename="../meshes/gr1t2/left_hand_pitch_link.STL" />
      </geometry>
    </collision> -->
  </link>
  <joint
    name="left_wrist_pitch_joint"
    type="revolute">
    <origin
      xyz="0 0 0"
      rpy="0 0 0" />
    <parent
      link="left_hand_roll_link" />
    <child
      link="left_hand_pitch_link" />
    <axis
      xyz="0 1 0" />
    <limit
      lower="-0.61"
      upper="0.61"
      effort="3.95"
      velocity="27.96" />
  </joint>



  <link
    name="left_end_effector_link">
  </link>
  <joint
    name="left_end_effector_joint"
    type="fixed">
    <origin
      xyz="0 0 -0.023"
      rpy="0 0 0" />
    <parent
      link="left_hand_pitch_link" />
    <child
      link="left_end_effector_link" />
  </joint>





  <link
    name="L_hand_base_link">
    <inertial>
      <origin
        xyz="-0.0027 -0.009658 -0.044243"
        rpy="0 0 0" />
      <mass
        value="0.281" />
      <inertia
        ixx="0.000344"
        ixy="-3.26E-06"
        ixz="8.99E-06"
        iyy="0.000474"
        iyz="-1.063E-05"
        izz="0.000217" />
    </inertial>
    <visual>
      <origin
        xyz="0 0 0"
        rpy="0 0 0" />
      <geometry>
        <mesh
          filename="../meshes/fourier_hand_12dof/L_hand_base_link.STL" />
      </geometry>
      <material
        name="">
        <color
          rgba="1 1 1 1" />
      </material>
    </visual>
    <collision>
      <origin
        xyz="0 0 0"
        rpy="0 0 0" />
      <geometry>
        <mesh
          filename="../meshes/fourier_hand_12dof/L_hand_base_link.STL" />
      </geometry>
    </collision>
  </link>
  <joint
    name="L_hand_base_joint"
    type="fixed">
    <origin
      xyz="0 0 0"
      rpy="0 0 0" />
    <parent
      link="left_end_effector_link" />
    <child
      link="L_hand_base_link" />
    <axis
      xyz="0 0 0" />
  </joint>
  <link
    name="L_thumb_proximal_yaw_link">
    <inertial>
      <origin
        xyz="0.010856 -0.001425 0.000443"
        rpy="0 0 0" />
      <mass
        value="0.04" />
      <inertia
        ixx="4.48E-06"
        ixy="7E-07"
        ixz="-7.4E-07"
        iyy="7.55E-06"
        iyz="6E-8"
        izz="6.88E-06" />
    </inertial>
    <visual>
      <origin
        xyz="0 0 0"
        rpy="0 0 0" />
      <geometry>
        <mesh
          filename="../meshes/fourier_hand_12dof/L_thumb_proximal_yaw_link.STL" />
      </geometry>
      <material
        name="">
        <color
          rgba="1 1 1 1" />
      </material>
    </visual>
    <collision>
      <origin
        xyz="0 0 0"
        rpy="0 0 0" />
      <geometry>
        <mesh
          filename="../meshes/fourier_hand_12dof/L_thumb_proximal_yaw_link.STL" />
      </geometry>
    </collision>
  </link>
  <joint
    name="L_thumb_proximal_yaw_joint"
    type="revolute">
    <origin
      xyz="0.014 -0.012 -0.023196"
      rpy="0 0 0" />
    <parent
      link="L_hand_base_link" />
    <child
      link="L_thumb_proximal_yaw_link" />
    <axis
      xyz="0 0 1" />
    <limit
      lower="-1.4661"
      upper="0"
      effort="0"
      velocity="0" />
  </joint>
  <link
    name="L_thumb_proximal_pitch_link">
    <inertial>
      <origin
        xyz="0.026449 -0.000321 3.22E-06"
        rpy="0 0 0" />
      <mass
        value="0.0415" />
      <inertia
        ixx="5.76E-06"
        ixy="3.7e-7"
        ixz="0"
        iyy="1.33E-05"
        iyz="0"
        izz="1.39E-05" />
    </inertial>
    <visual>
      <origin
        xyz="0 0 0"
        rpy="0 0 0" />
      <geometry>
        <mesh
          filename="../meshes/fourier_hand_12dof/L_thumb_proximal_pitch_link.STL" />
      </geometry>
      <material
        name="">
        <color
          rgba="1 1 1 1" />
      </material>
    </visual>
    <collision>
      <origin
        xyz="0 0 0"
        rpy="0 0 0" />
      <geometry>
        <mesh
          filename="../meshes/fourier_hand_12dof/L_thumb_proximal_pitch_link.STL" />
      </geometry>
    </collision>
  </link>
  <joint
    name="L_thumb_proximal_pitch_joint"
    type="revolute">
    <origin
      xyz="0.034322 -0.0054361 0.001"
      rpy="-1.5708 0 -0.15708" />
    <parent
      link="L_thumb_proximal_yaw_link" />
    <child
      link="L_thumb_proximal_pitch_link" />
    <axis
      xyz="0 0 1" />
    <limit
      lower="0"
      upper="1.274"
      effort="0"
      velocity="0" />
  </joint>
  <link
    name="L_thumb_distal_link">
    <inertial>
      <origin
        xyz="0.0186 -0.00514 1.569E-05"
        rpy="0 0 0" />
      <mass
        value="0.0198" />
      <inertia
        ixx="1.15E-06"
        ixy="-6E-8"
        ixz="0"
        iyy="3.43E-06"
        iyz="0"
        izz="3.24E-06" />
    </inertial>
    <visual>
      <origin
        xyz="0 0 0"
        rpy="0 0 0" />
      <geometry>
        <mesh
          filename="../meshes/fourier_hand_12dof/L_thumb_distal_link.STL" />
      </geometry>
      <material
        name="">
        <color
          rgba="1 1 1 1" />
      </material>
    </visual>
    <collision>
      <origin
        xyz="0 0 0"
        rpy="0 0 0" />
      <geometry>
        <mesh
          filename="../meshes/fourier_hand_12dof/L_thumb_distal_link.STL" />
      </geometry>
    </collision>
  </link>
  <joint
    name="L_thumb_distal_joint"
    type="revolute">
    <origin
      xyz="0.05175 0.0050976 0"
      rpy="0 0 0.071635" />
    <parent
      link="L_thumb_proximal_pitch_link" />
    <child
      link="L_thumb_distal_link" />
    <axis
      xyz="0 0 1" />
    <limit
      lower="0"
      upper="1.3614"
      effort="0"
      velocity="0" />
  </joint>

  <link name="L_thumb_tip_link">
    <visual>
      <origin
        xyz="0 0 0"
        rpy="0 0 0" />
      <geometry>
        <sphere radius="0.005" />
      </geometry>
      <material name="yellow">
        <color rgba="0.9 1 0 1" />
      </material>
    </visual>
  </link>
  <joint name="L_thumb_tip_joint" type="fixed">
    <parent link="L_thumb_distal_link" />
    <child link="L_thumb_tip_link" />
    <origin rpy="0 0 0" xyz="0.035 -0.001 0" />
  </joint>


  <link
    name="L_index_metacarpal_link">
    <inertial>
      <origin
        xyz="-0.00912 0.00394 0"
        rpy="0 0 0" />
      <mass
        value="0.0321" />
      <inertia
        ixx="1.09E-06"
        ixy="1.85E-06"
        ixz="0"
        iyy="7.7E-06"
        iyz="0"
        izz="7.94E-06" />
    </inertial>
    <visual>
      <origin
        xyz="0 0 0"
        rpy="0 0 0" />
      <geometry>
        <mesh
          filename="../meshes/fourier_hand_12dof/L_index_metacarpal_link.STL" />
      </geometry>
      <material
        name="">
        <color
          rgba="1 1 1 1" />
      </material>
    </visual>
    <collision>
      <origin
        xyz="0 0 0"
        rpy="0 0 0" />
      <geometry>
        <mesh
          filename="../meshes/fourier_hand_12dof/L_index_metacarpal_link.STL" />
      </geometry>
    </collision>
  </link>
  <joint
    name="L_index_metacarpal_joint"
    type="revolute">
    <origin
      xyz="0.0305 -0.0118 -0.088496"
      rpy="3.1416 1.4946 0" />
    <parent
      link="L_hand_base_link" />
    <child
      link="L_index_metacarpal_link" />
    <axis
      xyz="0 1 0" />
    <limit
      lower="-0.0524"
      upper="0.2618"
      effort="0"
      velocity="0" />
  </joint>
  <link
    name="L_index_proximal_link">
    <inertial>
      <origin
        xyz="0.01736 0.0045 0"
        rpy="0 0 0" />
      <mass
        value="0.0358" />
      <inertia
        ixx="3.91E-06"
        ixy="-2.7E-7"
        ixz="0"
        iyy="7.43E-06"
        iyz="0"
        izz="7.77E-06" />
    </inertial>
    <visual>
      <origin
        xyz="0 0 0"
        rpy="0 0 0" />
      <geometry>
        <mesh
          filename="../meshes/fourier_hand_12dof/L_index_proximal_link.STL" />
      </geometry>
      <material
        name="">
        <color
          rgba="1 1 1 1" />
      </material>
    </visual>
    <collision>
      <origin
        xyz="0 0 0"
        rpy="0 0 0" />
      <geometry>
        <mesh
          filename="../meshes/fourier_hand_12dof/L_index_proximal_link.STL" />
      </geometry>
    </collision>
  </link>
  <joint
    name="L_index_proximal_joint"
    type="revolute">
    <origin
      xyz="0.012 -0.0005 0"
      rpy="3.1416 0 0" />
    <parent
      link="L_index_metacarpal_link" />
    <child
      link="L_index_proximal_link" />
    <axis
      xyz="0 0 1" />
    <limit
      lower="-1.5185"
      upper="0"
      effort="0"
      velocity="0" />
  </joint>
  <link
    name="L_index_intermediate_link">
    <inertial>
      <origin
        xyz="0.02243 0.002908 1.624e-5"
        rpy="0 0 0" />
      <mass
        value="0.0199" />
      <inertia
        ixx="8.4E-7"
        ixy="4E-8"
        ixz="1E-8"
        iyy="4.82E-6"
        iyz="0"
        izz="4.72E-6" />
    </inertial>
    <visual>
      <origin
        xyz="0 0 0"
        rpy="0 0 0" />
      <geometry>
        <mesh
          filename="../meshes/fourier_hand_12dof/L_index_intermediate_link.STL" />
      </geometry>
      <material
        name="">
        <color
          rgba="1 1 1 1" />
      </material>
    </visual>
    <collision>
      <origin
        xyz="0 0 0"
        rpy="0 0 0" />
      <geometry>
        <mesh
          filename="../meshes/fourier_hand_12dof/L_index_intermediate_link.STL" />
      </geometry>
    </collision>
  </link>
  <joint
    name="L_index_intermediate_joint"
    type="revolute">
    <origin
      xyz="0.038948 0.0020202 0"
      rpy="0 0 -0.19585" />
    <parent
      link="L_index_proximal_link" />
    <child
      link="L_index_intermediate_link" />
    <axis
      xyz="0 0 1" />
    <limit
      lower="-1.5708"
      upper="0"
      effort="0"
      velocity="0" />
  </joint>

  <link name="L_index_tip_link">
    <visual>
      <origin
        xyz="0 0 0"
        rpy="0 0 0" />
      <geometry>
        <sphere radius="0.005" />
      </geometry>
      <material name="yellow">
        <color rgba="0.9 1 0 1" />
      </material>
    </visual>
  </link>
  <joint name="L_index_tip_joint" type="fixed">
    <parent link="L_index_intermediate_link" />
    <child link="L_index_tip_link" />
    <origin rpy="0 0 0" xyz="0.047 0.001 0" />
  </joint>

  <link
    name="L_middle_proximal_link">
    <inertial>
      <origin
        xyz="0.017361 0.0045 0"
        rpy="0 0 0" />
      <mass
        value="0.0358" />
      <inertia
        ixx="3.91E-06"
        ixy="-2.7E-7"
        ixz="0"
        iyy="7.43E-06"
        iyz="0"
        izz="7.77E-06" />
    </inertial>
    <visual>
      <origin
        xyz="0 0 0"
        rpy="0 0 0" />
      <geometry>
        <mesh
          filename="../meshes/fourier_hand_12dof/L_middle_proximal_link.STL" />
      </geometry>
      <material
        name="">
        <color
          rgba="1 1 1 1" />
      </material>
    </visual>
    <collision>
      <origin
        xyz="0 0 0"
        rpy="0 0 0" />
      <geometry>
        <mesh
          filename="../meshes/fourier_hand_12dof/L_middle_proximal_link.STL" />
      </geometry>
    </collision>
  </link>
  <joint
    name="L_middle_proximal_joint"
    type="revolute">
    <origin
      xyz="0.0095 -0.0113 -0.10005"
      rpy="0 1.5708 0" />
    <parent
      link="L_hand_base_link" />
    <child
      link="L_middle_proximal_link" />
    <axis
      xyz="0 0 1" />
    <limit
      lower="-1.5185"
      upper="0"
      effort="0"
      velocity="0" />
  </joint>
  <link
    name="L_middle_intermediate_link">
    <inertial>
      <origin
        xyz="0.0247 0.00323 1.39E-5"
        rpy="0 0 0" />
      <mass
        value="0.0234" />
      <inertia
        ixx="1.01E-6"
        ixy="-4E-8"
        ixz="1E-8"
        iyy="6.94E-6"
        iyz="0"
        izz="6.82E-6" />
    </inertial>
    <visual>
      <origin
        xyz="0 0 0"
        rpy="0 0 0" />
      <geometry>
        <mesh
          filename="../meshes/fourier_hand_12dof/L_middle_intermediate_link.STL" />
      </geometry>
      <material
        name="">
        <color
          rgba="1 1 1 1" />
      </material>
    </visual>
    <collision>
      <origin
        xyz="0 0 0"
        rpy="0 0 0" />
      <geometry>
        <mesh
          filename="../meshes/fourier_hand_12dof/L_middle_intermediate_link.STL" />
      </geometry>
    </collision>
  </link>
  <joint
    name="L_middle_intermediate_joint"
    type="revolute">
    <origin
      xyz="0.038948 0.0020202 0"
      rpy="0 0 -0.19218" />
    <parent
      link="L_middle_proximal_link" />
    <child
      link="L_middle_intermediate_link" />
    <axis
      xyz="0 0 1" />
    <limit
      lower="-1.5708"
      upper="0"
      effort="0"
      velocity="0" />
  </joint>

  <link name="L_middle_tip_link">
    <visual>
      <origin
        xyz="0 0 0"
        rpy="0 0 0" />
      <geometry>
        <sphere radius="0.005" />
      </geometry>
      <material name="yellow">
        <color rgba="0.9 1 0 1" />
      </material>
    </visual>
  </link>
  <joint name="L_middle_tip_joint" type="fixed">
    <parent link="L_middle_intermediate_link" />
    <child link="L_middle_tip_link" />
    <origin rpy="0 0 0" xyz="0.055 0.0012 0" />
  </joint>


  <link
    name="L_ring_proximal_link">
    <inertial>
      <origin
        xyz="0.017361 0.0045 0"
        rpy="0 0 0" />
      <mass
        value="0.035778" />
      <inertia
        ixx="3.91E-06"
        ixy="-2.7E-7"
        ixz="0"
        iyy="7.4E-06"
        iyz="0"
        izz="7.7E-06" />
    </inertial>
    <visual>
      <origin
        xyz="0 0 0"
        rpy="0 0 0" />
      <geometry>
        <mesh
          filename="../meshes/fourier_hand_12dof/L_ring_proximal_link.STL" />
      </geometry>
      <material
        name="">
        <color
          rgba="1 1 1 1" />
      </material>
    </visual>
    <collision>
      <origin
        xyz="0 0 0"
        rpy="0 0 0" />
      <geometry>
        <mesh
          filename="../meshes/fourier_hand_12dof/L_ring_proximal_link.STL" />
      </geometry>
    </collision>
  </link>
  <joint
    name="L_ring_proximal_joint"
    type="revolute">
    <origin
      xyz="-0.010987 -0.0113 -0.10003"
      rpy="-3.1416 1.5184 -3.1416" />
    <parent
      link="L_hand_base_link" />
    <child
      link="L_ring_proximal_link" />
    <axis
      xyz="0 0 1" />
    <limit
      lower="-1.5185"
      upper="0"
      effort="0"
      velocity="0" />
  </joint>
  <link
    name="L_ring_intermediate_link">
    <inertial>
      <origin
        xyz="0.02243 0.002908 1.624E-5"
        rpy="0 0 0" />
      <mass
        value="0.0199" />
      <inertia
        ixx="8.4E-7"
        ixy="4E-8"
        ixz="1E-8"
        iyy="4.82E-6"
        iyz="0"
        izz="4.72E-6" />
    </inertial>
    <visual>
      <origin
        xyz="0 0 0"
        rpy="0 0 0" />
      <geometry>
        <mesh
          filename="../meshes/fourier_hand_12dof/L_ring_intermediate_link.STL" />
      </geometry>
      <material
        name="">
        <color
          rgba="1 1 1 1" />
      </material>
    </visual>
    <collision>
      <origin
        xyz="0 0 0"
        rpy="0 0 0" />
      <geometry>
        <mesh
          filename="../meshes/fourier_hand_12dof/L_ring_intermediate_link.STL" />
      </geometry>
    </collision>
  </link>
  <joint
    name="L_ring_intermediate_joint"
    type="revolute">
    <origin
      xyz="0.038948 0.0020202 0"
      rpy="0 0 -0.19585" />
    <parent
      link="L_ring_proximal_link" />
    <child
      link="L_ring_intermediate_link" />
    <axis
      xyz="0 0 1" />
    <limit
      lower="-1.5708"
      upper="0"
      effort="0"
      velocity="0" />
  </joint>

  <link name="L_ring_tip_link">
    <visual>
      <origin
        xyz="0 0 0"
        rpy="0 0 0" />
      <geometry>
        <sphere radius="0.005" />
      </geometry>
      <material name="green">
        <color rgba="0.9 1 0 1" />
      </material>
    </visual>
  </link>
  <joint name="L_ring_tip_joint" type="fixed">
    <parent link="L_ring_intermediate_link" />
    <child link="L_ring_tip_link" />
    <origin rpy="0 0 0" xyz="0.045 0.001 0" />
  </joint>


  <link
    name="L_pinky_proximal_link">
    <inertial>
      <origin
        xyz="0.017361 0.0045 0"
        rpy="0 0 0" />
      <mass
        value="0.0358" />
      <inertia
        ixx="3.91E-06"
        ixy="-2.7E-7"
        ixz="0"
        iyy="7.4E-06"
        iyz="0"
        izz="7.77E-06" />
    </inertial>
    <visual>
      <origin
        xyz="0 0 0"
        rpy="0 0 0" />
      <geometry>
        <mesh
          filename="../meshes/fourier_hand_12dof/L_pinky_proximal_link.STL" />
      </geometry>
      <material
        name="">
        <color
          rgba="1 1 1 1" />
      </material>
    </visual>
    <collision>
      <origin
        xyz="0 0 0"
        rpy="0 0 0" />
      <geometry>
        <mesh
          filename="../meshes/fourier_hand_12dof/L_pinky_proximal_link.STL" />
      </geometry>
    </collision>
  </link>
  <joint
    name="L_pinky_proximal_joint"
    type="revolute">
    <origin
      xyz="-0.031472 -0.0113 -0.099245"
      rpy="-3.1416 1.4661 -3.1416" />
    <parent
      link="L_hand_base_link" />
    <child
      link="L_pinky_proximal_link" />
    <axis
      xyz="0 0 1" />
    <limit
      lower="-1.5185"
      upper="0"
      effort="0"
      velocity="0" />
  </joint>
  <link
    name="L_pinky_intermediate_link">
    <inertial>
      <origin
        xyz="0.01875 0.00296 5.23E-6"
        rpy="0 0 0" />
      <mass
        value="0.00812" />
      <inertia
        ixx="6.7E-7"
        ixy="5E-8"
        ixz="1E-8"
        iyy="2.69E-06"
        iyz="0"
        izz="2.6E-06" />
    </inertial>
    <visual>
      <origin
        xyz="0 0 0"
        rpy="0 0 0" />
      <geometry>
        <mesh
          filename="../meshes/fourier_hand_12dof/L_pinky_intermediate_link.STL" />
      </geometry>
      <material
        name="">
        <color
          rgba="1 1 1 1" />
      </material>
    </visual>
    <collision>
      <origin
        xyz="0 0 0"
        rpy="0 0 0" />
      <geometry>
        <mesh
          filename="../meshes/fourier_hand_12dof/L_pinky_intermediate_link.STL" />
      </geometry>
    </collision>
  </link>
  <joint
    name="L_pinky_intermediate_joint"
    type="revolute">
    <origin
      xyz="0.038948 0.0020202 0"
      rpy="0 -0.0013299 -0.20067" />
    <parent
      link="L_pinky_proximal_link" />
    <child
      link="L_pinky_intermediate_link" />
    <axis
      xyz="0.0013299 0 1" />
    <limit
      lower="-1.5708"
      upper="0"
      effort="0"
      velocity="0" />
  </joint>

  <link name="L_pinky_tip_link">
    <visual>
      <origin
        xyz="0 0 0"
        rpy="0 0 0" />
      <geometry>
        <sphere radius="0.005" />
      </geometry>
      <material name="yellow">
        <color rgba="0.9 1 0 1" />
      </material>
    </visual>
  </link>
  <joint name="L_pinky_tip_joint" type="fixed">
    <parent link="L_pinky_intermediate_link" />
    <child link="L_pinky_tip_link" />
    <origin rpy="0 0 0" xyz="0.038 0.001 0" />
  </joint>




  <link
    name="right_upper_arm_pitch_link">
    <inertial>
      <origin
        xyz="0.00338 -0.05364 0.00021"
        rpy="0 0 0" />
      <mass
        value="0.82" />
      <inertia
        ixx="0.0020452"
        ixy="0.00011066"
        ixz="-3.5E-07"
        iyy="0.00050607"
        iyz="-3.27E-06"
        izz="0.0019775"/>
    </inertial>
    <visual>
      <origin
        xyz="0 0 0"
        rpy="0 0 0" />
      <geometry>
        <mesh
          filename="../meshes/gr1t2/right_upper_arm_pitch_link.STL" />
      </geometry>
      <material
        name="">
        <color
          rgba="0.752941176470588 0.752941176470588 0.752941176470588 1" />
      </material>
    </visual>
    <!-- <collision>
      <origin
        xyz="0 0 0"
        rpy="0 0 0" />
      <geometry>
        <mesh
          filename="../meshes/gr1t2/right_upper_arm_pitch_link.STL" />
      </geometry>
    </collision> -->
  </link>
  <joint
    name="right_shoulder_pitch_joint"
    type="revolute">
    <origin
      xyz="0 -0.10128 0.046651"
      rpy="-0.43275 0 0" />
    <parent
      link="torso_link" />
    <child
      link="right_upper_arm_pitch_link" />
    <axis
      xyz="0 1 0" />
    <limit
      lower="-2.79"
      upper="1.92"
      effort="38"
      velocity="9.11" />
  </joint>
  <link
    name="right_upper_arm_roll_link">
    <inertial>
      <origin
        xyz="0.004503 -0.0174 -0.02398"
        rpy="0 0 0" />
      <mass
        value="0.61" />
      <inertia
        ixx="0.0010174"
        ixy="-8.4E-07"
        ixz="-2.687E-05"
        iyy="0.0008033"
        iyz="-0.00031043"
        izz="0.00056542" />
    </inertial>
    <visual>
      <origin
        xyz="0 0 0"
        rpy="0 0 0" />
      <geometry>
        <mesh
          filename="../meshes/gr1t2/right_upper_arm_roll_link.STL" />
      </geometry>
      <material
        name="">
        <color
          rgba="0.752941176470588 0.752941176470588 0.752941176470588 1" />
      </material>
    </visual>
    <!-- <collision>
      <origin
        xyz="0 0 0"
        rpy="0 0 0" />
      <geometry>
        <mesh
          filename="../meshes/gr1t2/right_upper_arm_roll_link.STL" />
      </geometry>
    </collision> -->
  </link>
  <joint
    name="right_shoulder_roll_joint"
    type="revolute">
    <origin
      xyz="0 -0.09515 0"
      rpy="0.43275 0 0" />
    <parent
      link="right_upper_arm_pitch_link" />
    <child
      link="right_upper_arm_roll_link" />
    <axis
      xyz="1 0 0" />
    <limit
      lower="-2.53"
      upper="0.57"
      effort="38"
      velocity="9.11" />
  </joint>
  <link
    name="right_upper_arm_yaw_link">
    <inertial>
      <origin
        xyz="-1E-5 0.0002 -0.08761"
        rpy="0 0 0" />
      <mass
        value="0.54" />
      <inertia
        ixx="0.0035706"
        ixy="3E-08"
        ixz="7E-08"
        iyy="0.0035441"
        iyz="-4.555E-05"
        izz="0.00026029" />
    </inertial>
    <visual>
      <origin
        xyz="0 0 0"
        rpy="0 0 0" />
      <geometry>
        <mesh
          filename="../meshes/gr1t2/right_upper_arm_yaw_link.STL" />
      </geometry>
      <material
        name="">
        <color
          rgba="0.752941176470588 0.752941176470588 0.752941176470588 1" />
      </material>
    </visual>
    <collision name="right_upper_arm_yaw_link.STL">
      <origin xyz="3.948544275722503e-05 0.0008942898235348745 -0.079340036492981" rpy="0 0 0"/>
      <geometry>
        <cylinder radius="0.03623321337242011" length="0.1698839909625244"/>
      </geometry>
    </collision>
  </link>
  <joint
    name="right_shoulder_yaw_joint"
    type="revolute">
    <origin
      xyz="0 -0.04 -0.0709"
      rpy="0 0 0" />
    <parent
      link="right_upper_arm_roll_link" />
    <child
      link="right_upper_arm_yaw_link" />
    <axis
      xyz="0 0 1" />
    <limit
      lower="-2.97"
      upper="2.97"
      effort="30"
      velocity="7.33" />
  </joint>
  <link
    name="right_lower_arm_pitch_link">
    <inertial>
      <origin
        xyz="0 -0.008102 -0.02528"
        rpy="0 0 0" />
      <mass
        value="0.33" />
      <inertia
        ixx="0.00029558"
        ixy="2E-08"
        ixz="-7E-08"
        iyy="0.000287"
        iyz="5.014E-05"
        izz="0.000112" />
    </inertial>
    <visual>
      <origin
        xyz="0 0 0"
        rpy="0 0 0" />
      <geometry>
        <mesh
          filename="../meshes/gr1t2/right_lower_arm_pitch_link.STL" />
      </geometry>
      <material
        name="">
        <color
          rgba="0.752941176470588 0.752941176470588 0.752941176470588 1" />
      </material>
    </visual>
    <!-- <collision>
      <origin
        xyz="0 0 0"
        rpy="0 0 0" />
      <geometry>
        <mesh
          filename="../meshes/gr1t2/right_lower_arm_pitch_link.STL" />
      </geometry>
    </collision> -->
  </link>
  <joint
    name="right_elbow_pitch_joint"
    type="revolute">
    <origin
      xyz="0 -0.0010503 -0.1786"
      rpy="0 0 0" />
    <parent
      link="right_upper_arm_yaw_link" />
    <child
      link="right_lower_arm_pitch_link" />
    <axis
      xyz="0 1 0" />
    <limit
      lower="-2.27"
      upper="2.27"
      effort="30"
      velocity="7.33" />
  </joint>
  <link
    name="right_hand_yaw_link">
    <inertial>
      <origin
        xyz="0.00047 -0.00196 -0.07239"
        rpy="0 0 0" />
      <mass
        value="0.99" />
      <inertia
        ixx="0.0025979"
        ixy="3.47E-06"
        ixz="2.86E-06"
        iyy="0.0025255"
        iyz="1.62E-05"
        izz="0.00049776" />
    </inertial>
    <visual>
      <origin
        xyz="0 0 0"
        rpy="0 0 0" />
      <geometry>
        <mesh
          filename="../meshes/gr1t2/right_hand_yaw_link.STL" />
      </geometry>
      <material
        name="">
        <color
          rgba="0.752941176470588 0.752941176470588 0.752941176470588 1" />
      </material>
    </visual>
    <collision name="right_hand_yaw_link.STL">
      <origin xyz="0.0010892501812804515 0.0006411136604867 -0.07604285011805535" rpy="0 0 0"/>
      <geometry>
        <cylinder radius="0.04157192402358859" length="0.1391873595177893"/>
      </geometry>
    </collision>
  </link>
  <joint
    name="right_wrist_yaw_joint"
    type="revolute">
    <origin
      xyz="0 0 -0.05945"
      rpy="0 0 0" />
    <parent
      link="right_lower_arm_pitch_link" />
    <child
      link="right_hand_yaw_link" />
    <axis
      xyz="0 0 1" />
    <limit
      lower="-2.97"
      upper="2.97"
      effort="10.2"
      velocity="24.4" />
  </joint>
  <link
    name="right_hand_roll_link">
    <inertial>
      <origin
        xyz="0 0 0"
        rpy="0 0 0" />
      <mass
        value="0.005" />
      <inertia
        ixx="7E-8"
        ixy="0"
        ixz="0"
        iyy="3.5E-7"
        iyz="0"
        izz="3.5E-7" />
    </inertial>
    <visual>
      <origin
        xyz="0 0 0"
        rpy="0 0 0" />
      <geometry>
        <mesh
          filename="../meshes/gr1t2/right_hand_roll_link.STL" />
      </geometry>
      <material
        name="">
        <color
          rgba="0.752941176470588 0.752941176470588 0.752941176470588 1" />
      </material>
    </visual>
    <!-- <collision>
      <origin
        xyz="0 0 0"
        rpy="0 0 0" />
      <geometry>
        <mesh
          filename="../meshes/gr1t2/right_hand_roll_link.STL" />
      </geometry>
    </collision> -->
  </link>
  <joint
    name="right_wrist_roll_joint"
    type="revolute">
    <origin
      xyz="0 0 -0.19115"
      rpy="0 0 0" />
    <parent
      link="right_hand_yaw_link" />
    <child
      link="right_hand_roll_link" />
    <axis
      xyz="1 0 0" />
    <limit
      lower="-0.96"
      upper="0.87"
      effort="3.95"
      velocity="27.96" />
  </joint>
  <link
    name="right_hand_pitch_link">
    <inertial>
      <origin
        xyz="0 -0.00567 -0.00938"
        rpy="0 0 0" />
      <mass
        value="0.05" />
      <inertia
        ixx="1.065E-5"
        ixy="0"
        ixz="0"
        iyy="1.96E-5"
        iyz="1.1E-6"
        izz="2.022E-5" />
    </inertial>
    <visual>
      <origin
        xyz="0 0 0"
        rpy="0 0 0" />
      <geometry>
        <mesh
          filename="../meshes/gr1t2/right_hand_pitch_link.STL" />
      </geometry>
      <material
        name="">
        <color
          rgba="0.752941176470588 0.752941176470588 0.752941176470588 1" />
      </material>
    </visual>
    <!-- <collision>
      <origin
        xyz="0 0 0"
        rpy="0 0 0" />
      <geometry>
        <mesh
          filename="../meshes/gr1t2/right_hand_pitch_link.STL" />
      </geometry>
    </collision> -->
  </link>
  <joint
    name="right_wrist_pitch_joint"
    type="revolute">
    <origin
      xyz="0 0 0"
      rpy="0 0 0" />
    <parent
      link="right_hand_roll_link" />
    <child
      link="right_hand_pitch_link" />
    <axis
      xyz="0 1 0" />
    <limit
      lower="-0.61"
      upper="0.61"
      effort="3.95"
      velocity="27.96" />
  </joint>


  <link
    name="right_end_effector_link">
  </link>
  <joint
    name="right_end_effector_joint"
    type="fixed">
    <origin
      xyz="0 0 -0.023"
      rpy="0 0 0" />
    <parent
      link="right_hand_pitch_link" />
    <child
      link="right_end_effector_link" />
  </joint>



  <link
    name="R_hand_base_link">
    <inertial>
      <origin
        xyz="-0.0031 0.00970 -0.0440"
        rpy="0 0 0" />
      <mass
        value="0.281" />
      <inertia
        ixx="0.000343"
        ixy="2.91E-06"
        ixz="9.85E-06"
        iyy="0.000474"
        iyz="1.066E-5"
        izz="0.000217" />
    </inertial>
    <visual>
      <origin
        xyz="0 0 0"
        rpy="0 0 0" />
      <geometry>
        <mesh
          filename="../meshes/fourier_hand_12dof/R_hand_base_link.STL" />
      </geometry>
      <material
        name="">
        <color
          rgba="1 1 1 1" />
      </material>
    </visual>
    <collision>
      <origin
        xyz="0 0 0"
        rpy="0 0 0" />
      <geometry>
        <mesh
          filename="../meshes/fourier_hand_12dof/R_hand_base_link.STL" />
      </geometry>
    </collision>
  </link>
  <joint
    name="R_hand_base_joint"
    type="fixed">
    <origin
      xyz="0 0 0"
      rpy="0 0 0" />
    <parent
      link="right_end_effector_link" />
    <child
      link="R_hand_base_link" />
    <axis
      xyz="0 0 0" />
  </joint>
  <link
    name="R_thumb_proximal_yaw_link">
    <inertial>
      <origin
        xyz="0.010856 -0.001425 -0.000443"
        rpy="0 0 0" />
      <mass
        value="0.04" />
      <inertia
        ixx="4.48E-6"
        ixy="7E-7"
        ixz="7.4E-7"
        iyy="7.55E-6"
        iyz="-6E-8"
        izz="6.88E-06" />
    </inertial>
    <visual>
      <origin
        xyz="0 0 0"
        rpy="0 0 0" />
      <geometry>
        <mesh
          filename="../meshes/fourier_hand_12dof/R_thumb_proximal_yaw_link.STL" />
      </geometry>
      <material
        name="">
        <color
          rgba="1 1 1 1" />
      </material>
    </visual>
    <collision>
      <origin
        xyz="0 0 0"
        rpy="0 0 0" />
      <geometry>
        <mesh
          filename="../meshes/fourier_hand_12dof/R_thumb_proximal_yaw_link.STL" />
      </geometry>
    </collision>
  </link>
  <joint
    name="R_thumb_proximal_yaw_joint"
    type="revolute">
    <origin
      xyz="0.014 0.012 -0.023196"
      rpy="3.1416 0 0" />
    <parent
      link="R_hand_base_link" />
    <child
      link="R_thumb_proximal_yaw_link" />
    <axis
      xyz="0 0 1" />
    <limit
      lower="-1.4661"
      upper="0"
      effort="0"
      velocity="0" />
  </joint>
  <link
    name="R_thumb_proximal_pitch_link">
    <inertial>
      <origin
        xyz="0.026421 -0.001244 3.22E-06"
        rpy="0 0 0" />
      <mass
        value="0.0415" />
      <inertia
        ixx="5.78E-06"
        ixy="4.3E-7"
        ixz="0"
        iyy="1.328E-05"
        iyz="0"
        izz="1.39E-05" />
    </inertial>
    <visual>
      <origin
        xyz="0 0 0"
        rpy="0 0 0" />
      <geometry>
        <mesh
          filename="../meshes/fourier_hand_12dof/R_thumb_proximal_pitch_link.STL" />
      </geometry>
      <material
        name="">
        <color
          rgba="1 1 1 1" />
      </material>
    </visual>
    <collision>
      <origin
        xyz="0 0 0"
        rpy="0 0 0" />
      <geometry>
        <mesh
          filename="../meshes/fourier_hand_12dof/R_thumb_proximal_pitch_link.STL" />
      </geometry>
    </collision>
  </link>
  <joint
    name="R_thumb_proximal_pitch_joint"
    type="revolute">
    <origin
      xyz="0.034322 -0.0054361 -0.001"
      rpy="1.5708 0 -0.15708" />
    <parent
      link="R_thumb_proximal_yaw_link" />
    <child
      link="R_thumb_proximal_pitch_link" />
    <axis
      xyz="0 0 1" />
    <limit
      lower="0"
      upper="1.274"
      effort="0"
      velocity="0" />
  </joint>
  <link
    name="R_thumb_distal_link">
    <inertial>
      <origin
        xyz="0.01864 -0.005137 1.57E-05"
        rpy="0 0 0" />
      <mass
        value="0.0198" />
      <inertia
        ixx="1.15E-06"
        ixy="-6E-8"
        ixz="0"
        iyy="3.43E-06"
        iyz="0"
        izz="3.24E-06" />
    </inertial>
    <visual>
      <origin
        xyz="0 0 0"
        rpy="0 0 0" />
      <geometry>
        <mesh
          filename="../meshes/fourier_hand_12dof/R_thumb_distal_link.STL" />
      </geometry>
      <material
        name="">
        <color
          rgba="1 1 1 1" />
      </material>
    </visual>
    <collision>
      <origin
        xyz="0 0 0"
        rpy="0 0 0" />
      <geometry>
        <mesh
          filename="../meshes/fourier_hand_12dof/R_thumb_distal_link.STL" />
      </geometry>
    </collision>
  </link>
  <joint
    name="R_thumb_distal_joint"
    type="revolute">
    <origin
      xyz="0.05175 0.0050976 0"
      rpy="0 0 0.071635" />
    <parent
      link="R_thumb_proximal_pitch_link" />
    <child
      link="R_thumb_distal_link" />
    <axis
      xyz="0 0 1" />
    <limit
      lower="0"
      upper="1.3614"
      effort="0"
      velocity="0" />
  </joint>

  <link name="R_thumb_tip_link">
    <visual>
      <origin
        xyz="0 0 0"
        rpy="0 0 0" />
      <geometry>
        <sphere radius="0.005" />
      </geometry>
      <material name="yellow">
        <color rgba="0.9 1 0 1" />
      </material>
    </visual>
  </link>
  <joint name="R_thumb_tip_joint" type="fixed">
    <parent link="R_thumb_distal_link" />
    <child link="R_thumb_tip_link" />
    <origin rpy="0 0 0" xyz="0.035 -0.001 0" />
  </joint>


  <link
    name="R_index_metacarpal_link">
    <inertial>
      <origin
        xyz="-0.00913 0.003944 0"
        rpy="0 0 0" />
      <mass
        value="0.0321" />
      <inertia
        ixx="1.09E-06"
        ixy="1.85E-06"
        ixz="0"
        iyy="7.7E-06"
        iyz="0"
        izz="7.94E-06" />
    </inertial>
    <visual>
      <origin
        xyz="0 0 0"
        rpy="0 0 0" />
      <geometry>
        <mesh
          filename="../meshes/fourier_hand_12dof/R_index_metacarpal_link.STL" />
      </geometry>
      <material
        name="">
        <color
          rgba="1 1 1 1" />
      </material>
    </visual>
    <collision>
      <origin
        xyz="0 0 0"
        rpy="0 0 0" />
      <geometry>
        <mesh
          filename="../meshes/fourier_hand_12dof/R_index_metacarpal_link.STL" />
      </geometry>
    </collision>
  </link>
  <joint
    name="R_index_metacarpal_joint"
    type="revolute">
    <origin
      xyz="0.0305 0.0118 -0.088496"
      rpy="-3.1416 1.4588 0" />
    <parent
      link="R_hand_base_link" />
    <child
      link="R_index_metacarpal_link" />
    <axis
      xyz="0 1 0" />
    <limit
      lower="-0.0524"
      upper="0.2618"
      effort="0"
      velocity="0" />
  </joint>
  <link
    name="R_index_proximal_link">
    <inertial>
      <origin
        xyz="0.017361 0.0045 0"
        rpy="0 0 0" />
      <mass
        value="0.0358" />
      <inertia
        ixx="3.91E-06"
        ixy="-2.7E-7"
        ixz="0"
        iyy="7.43E-06"
        iyz="0"
        izz="7.77E-06" />
    </inertial>
    <visual>
      <origin
        xyz="0 0 0"
        rpy="0 0 0" />
      <geometry>
        <mesh
          filename="../meshes/fourier_hand_12dof/R_index_proximal_link.STL" />
      </geometry>
      <material
        name="">
        <color
          rgba="1 1 1 1" />
      </material>
    </visual>
    <collision>
      <origin
        xyz="0 0 0"
        rpy="0 0 0" />
      <geometry>
        <mesh
          filename="../meshes/fourier_hand_12dof/R_index_proximal_link.STL" />
      </geometry>
    </collision>
  </link>
  <joint
    name="R_index_proximal_joint"
    type="revolute">
    <origin
      xyz="0.012 0.0005 0"
      rpy="0 0 0" />
    <parent
      link="R_index_metacarpal_link" />
    <child
      link="R_index_proximal_link" />
    <axis
      xyz="0 0 1" />
    <limit
      lower="-1.5185"
      upper="0"
      effort="0"
      velocity="0" />
  </joint>
  <link
    name="R_index_intermediate_link">
    <inertial>
      <origin
        xyz="0.0224 0.002908 1.624E-5"
        rpy="0 0 0" />
      <mass
        value="0.0199" />
      <inertia
        ixx="8.4E-7"
        ixy="4E-8"
        ixz="1E-8"
        iyy="4.82E-6"
        iyz="0"
        izz="4.72E-6" />
    </inertial>
    <visual>
      <origin
        xyz="0 0 0"
        rpy="0 0 0" />
      <geometry>
        <mesh
          filename="../meshes/fourier_hand_12dof/R_index_intermediate_link.STL" />
      </geometry>
      <material
        name="">
        <color
          rgba="1 1 1 1" />
      </material>
    </visual>
    <collision>
      <origin
        xyz="0 0 0"
        rpy="0 0 0" />
      <geometry>
        <mesh
          filename="../meshes/fourier_hand_12dof/R_index_intermediate_link.STL" />
      </geometry>
    </collision>
  </link>
  <joint
    name="R_index_intermediate_joint"
    type="revolute">
    <origin
      xyz="0.038948 0.0020202 0"
      rpy="0 0 -0.19585" />
    <parent
      link="R_index_proximal_link" />
    <child
      link="R_index_intermediate_link" />
    <axis
      xyz="0 0 1" />
    <limit
      lower="-1.5708"
      upper="0"
      effort="0"
      velocity="0" />
  </joint>

  <link name="R_index_tip_link">
    <visual>
      <origin
        xyz="0 0 0"
        rpy="0 0 0" />
      <geometry>
        <sphere radius="0.005" />
      </geometry>
      <material name="yellow">
        <color rgba="0.9 1 0 1" />
      </material>
    </visual>
  </link>
  <joint name="R_index_tip_joint" type="fixed">
    <parent link="R_index_intermediate_link" />
    <child link="R_index_tip_link" />
    <origin rpy="0 0 0" xyz="0.047 0.001 0" />
  </joint>


  <link
    name="R_middle_proximal_link">
    <inertial>
      <origin
        xyz="0.017361 0.0045 0"
        rpy="0 0 0" />
      <mass
        value="0.0358" />
      <inertia
        ixx="3.91E-06"
        ixy="-2.7E-7"
        ixz="0"
        iyy="7.43E-06"
        iyz="0"
        izz="7.77E-06" />
    </inertial>
    <visual>
      <origin
        xyz="0 0 0"
        rpy="0 0 0" />
      <geometry>
        <mesh
          filename="../meshes/fourier_hand_12dof/R_middle_proximal_link.STL" />
      </geometry>
      <material
        name="">
        <color
          rgba="1 1 1 1" />
      </material>
    </visual>
    <collision>
      <origin
        xyz="0 0 0"
        rpy="0 0 0" />
      <geometry>
        <mesh
          filename="../meshes/fourier_hand_12dof/R_middle_proximal_link.STL" />
      </geometry>
    </collision>
  </link>
  <joint
    name="R_middle_proximal_joint"
    type="revolute">
    <origin
      xyz="0.0095 0.0113 -0.10005"
      rpy="3.1416 1.5708 0" />
    <parent
      link="R_hand_base_link" />
    <child
      link="R_middle_proximal_link" />
    <axis
      xyz="0 0 1" />
    <limit
      lower="-1.5185"
      upper="0"
      effort="0"
      velocity="0" />
  </joint>
  <link
    name="R_middle_intermediate_link">
    <inertial>
      <origin
        xyz="0.02470 0.003230 -1.394E-5"
        rpy="0 0 0" />
      <mass
        value="0.0234" />
      <inertia
        ixx="1.01E-6"
        ixy="-4E-8"
        ixz="1E-8"
        iyy="6.94E-6"
        iyz="0"
        izz="6.82E-6" />
    </inertial>
    <visual>
      <origin
        xyz="0 0 0"
        rpy="0 0 0" />
      <geometry>
        <mesh
          filename="../meshes/fourier_hand_12dof/R_middle_intermediate_link.STL" />
      </geometry>
      <material
        name="">
        <color
          rgba="1 1 1 1" />
      </material>
    </visual>
    <collision>
      <origin
        xyz="0 0 0"
        rpy="0 0 0" />
      <geometry>
        <mesh
          filename="../meshes/fourier_hand_12dof/R_middle_intermediate_link.STL" />
      </geometry>
    </collision>
  </link>
  <joint
    name="R_middle_intermediate_joint"
    type="revolute">
    <origin
      xyz="0.038948 0.0020202 0"
      rpy="0 0 -0.19218" />
    <parent
      link="R_middle_proximal_link" />
    <child
      link="R_middle_intermediate_link" />
    <axis
      xyz="0 0 1" />
    <limit
      lower="-1.5708"
      upper="0"
      effort="0"
      velocity="0" />
  </joint>

  <link name="R_middle_tip_link">
    <visual>
      <origin
        xyz="0 0 0"
        rpy="0 0 0" />
      <geometry>
        <sphere radius="0.005" />
      </geometry>
      <material name="yellow">
        <color rgba="0.9 1 0 1" />
      </material>
    </visual>
  </link>
  <joint name="R_middle_tip_joint" type="fixed">
    <parent link="R_middle_intermediate_link" />
    <child link="R_middle_tip_link" />
    <origin rpy="0 0 0" xyz="0.055 0.0012 0" />
  </joint>


  <link
    name="R_ring_proximal_link">
    <inertial>
      <origin
        xyz="0.017361 0.0045 0"
        rpy="0 0 0" />
      <mass
        value="0.035778" />
      <inertia
        ixx="3.91E-06"
        ixy="-2.7E-7"
        ixz="0"
        iyy="7.43E-06"
        iyz="0"
        izz="7.77E-06" />
    </inertial>
    <visual>
      <origin
        xyz="0 0 0"
        rpy="0 0 0" />
      <geometry>
        <mesh
          filename="../meshes/fourier_hand_12dof/R_ring_proximal_link.STL" />
      </geometry>
      <material
        name="">
        <color
          rgba="1 1 1 1" />
      </material>
    </visual>
    <collision>
      <origin
        xyz="0 0 0"
        rpy="0 0 0" />
      <geometry>
        <mesh
          filename="../meshes/fourier_hand_12dof/R_ring_proximal_link.STL" />
      </geometry>
    </collision>
  </link>
  <joint
    name="R_ring_proximal_joint"
    type="revolute">
    <origin
      xyz="-0.010987 0.0113 -0.10003"
      rpy="0 1.5184 3.1416" />
    <parent
      link="R_hand_base_link" />
    <child
      link="R_ring_proximal_link" />
    <axis
      xyz="0 0 1" />
    <limit
      lower="-1.5185"
      upper="0"
      effort="0"
      velocity="0" />
  </joint>
  <link
    name="R_ring_intermediate_link">
    <inertial>
      <origin
        xyz="0.0224 0.002908 1.624E-5"
        rpy="0 0 0" />
      <mass
        value="0.0199" />
      <inertia
        ixx="8.4E-7"
        ixy="4E-8"
        ixz="1E-8"
        iyy="4.82E-6"
        iyz="0"
        izz="4.72E-6" />
    </inertial>
    <visual>
      <origin
        xyz="0 0 0"
        rpy="0 0 0" />
      <geometry>
        <mesh
          filename="../meshes/fourier_hand_12dof/R_ring_intermediate_link.STL" />
      </geometry>
      <material
        name="">
        <color
          rgba="1 1 1 1" />
      </material>
    </visual>
    <collision>
      <origin
        xyz="0 0 0"
        rpy="0 0 0" />
      <geometry>
        <mesh
          filename="../meshes/fourier_hand_12dof/R_ring_intermediate_link.STL" />
      </geometry>
    </collision>
  </link>
  <joint
    name="R_ring_intermediate_joint"
    type="revolute">
    <origin
      xyz="0.038948 0.0020202 0"
      rpy="0 0 -0.19585" />
    <parent
      link="R_ring_proximal_link" />
    <child
      link="R_ring_intermediate_link" />
    <axis
      xyz="0 0 1" />
    <limit
      lower="-1.5708"
      upper="0"
      effort="0"
      velocity="0" />
  </joint>

  <link name="R_ring_tip_link">
    <visual>
      <origin
        xyz="0 0 0"
        rpy="0 0 0" />
      <geometry>
        <sphere radius="0.005" />
      </geometry>
      <material name="green">
        <color rgba="0.9 1 0 1" />
      </material>
    </visual>
  </link>
  <joint name="R_ring_tip_joint" type="fixed">
    <parent link="R_ring_intermediate_link" />
    <child link="R_ring_tip_link" />
    <origin rpy="0 0 0" xyz="0.045 0.001 0" />
  </joint>


  <link
    name="R_pinky_proximal_link">
    <inertial>
      <origin
        xyz="0.017361 0.0045 0"
        rpy="0 0 0" />
      <mass
        value="0.0358" />
      <inertia
        ixx="3.91E-06"
        ixy="-2.7E-7"
        ixz="0"
        iyy="7.43E-06"
        iyz="0"
        izz="7.77E-06" />
    </inertial>
    <visual>
      <origin
        xyz="0 0 0"
        rpy="0 0 0" />
      <geometry>
        <mesh
          filename="../meshes/fourier_hand_12dof/R_pinky_proximal_link.STL" />
      </geometry>
      <material
        name="">
        <color
          rgba="1 1 1 1" />
      </material>
    </visual>
    <collision>
      <origin
        xyz="0 0 0"
        rpy="0 0 0" />
      <geometry>
        <mesh
          filename="../meshes/fourier_hand_12dof/R_pinky_proximal_link.STL" />
      </geometry>
    </collision>
  </link>
  <joint
    name="R_pinky_proximal_joint"
    type="revolute">
    <origin
      xyz="-0.031472 0.0113 -0.099245"
      rpy="0 1.4661 3.1416" />
    <parent
      link="R_hand_base_link" />
    <child
      link="R_pinky_proximal_link" />
    <axis
      xyz="0 0 1" />
    <limit
      lower="-1.5185"
      upper="0"
      effort="0"
      velocity="0" />
  </joint>
  <link
    name="R_pinky_intermediate_link">
    <inertial>
      <origin
        xyz="0.01875 0.00296 5.23E-6"
        rpy="0 0 0" />
      <mass
        value="0.00812" />
      <inertia
        ixx="6.7E-7"
        ixy="5E-8"
        ixz="1E-8"
        iyy="2.69E-06"
        iyz="0"
        izz="2.6E-06" />
    </inertial>
    <visual>
      <origin
        xyz="0 0 0"
        rpy="0 0 0" />
      <geometry>
        <mesh
          filename="../meshes/fourier_hand_12dof/R_pinky_intermediate_link.STL" />
      </geometry>
      <material
        name="">
        <color
          rgba="1 1 1 1" />
      </material>
    </visual>
    <collision>
      <origin
        xyz="0 0 0"
        rpy="0 0 0" />
      <geometry>
        <mesh
          filename="../meshes/fourier_hand_12dof/R_pinky_intermediate_link.STL" />
      </geometry>
    </collision>
  </link>
  <joint
    name="R_pinky_intermediate_joint"
    type="revolute">
    <origin
      xyz="0.038948 0.0020202 0"
      rpy="0 -0.0013299 -0.20067" />
    <parent
      link="R_pinky_proximal_link" />
    <child
      link="R_pinky_intermediate_link" />
    <axis
      xyz="0.0013299 0 1" />
    <limit
      lower="-1.5708"
      upper="0"
      effort="0"
      velocity="0" />
  </joint>

  <link name="R_pinky_tip_link">
    <visual>
      <origin
        xyz="0 0 0"
        rpy="0 0 0" />
      <geometry>
        <sphere radius="0.005" />
      </geometry>
      <material name="yellow">
        <color rgba="0.9 1 0 1" />
      </material>
    </visual>
  </link>
  <joint name="R_pinky_tip_joint" type="fixed">
    <parent link="R_pinky_intermediate_link" />
    <child link="R_pinky_tip_link" />
    <origin rpy="0 0 0" xyz="0.038 0.001 0" />
  </joint>



  <link
    name="head_roll_link">
    <inertial>
      <origin
        xyz="0.00425 0 0"
        rpy="0 0 0" />
      <mass
        value="0.01" />
      <inertia
        ixx="4.3E-7"
        ixy="0"
        ixz="0"
        iyy="4.4E-7"
        iyz="0"
        izz="7.2E-7" />
    </inertial>
    <visual>
      <origin
        xyz="0 0 0"
        rpy="0 0 0" />
      <geometry>
        <mesh
          filename="../meshes/gr1t2/head_roll_link.STL" />
      </geometry>
      <material
        name="">
        <color
          rgba="0.752941176470588 0.752941176470588 0.752941176470588 1" />
      </material>
    </visual>
    <!-- <collision>
      <origin
        xyz="0 0 0"
        rpy="0 0 0" />
      <geometry>
        <mesh
          filename="../meshes/gr1t2/head_roll_link.STL" />
      </geometry>
    </collision> -->
  </link>
  <joint
    name="head_roll_joint"
    type="revolute">
    <origin
      xyz="0.002 0.0005184 0.14465"
      rpy="0 0 0" />
    <parent
      link="torso_link" />
    <child
      link="head_roll_link" />
    <axis
      xyz="1 0 0" />
    <limit
      lower="-0.35"
      upper="0.35"
      effort="3.95"
      velocity="27.96" />
  </joint>
  <link
    name="head_pitch_link">
    <inertial>
      <origin
        xyz="-0.0021765 -4.1784E-07 0.017509"
        rpy="0 0 0" />
      <mass
        value="0.06" />
      <inertia
        ixx="2.509E-05"
        ixy="0"
        ixz="-1.3E-06"
        iyy="1.707E-05"
        iyz="0"
        izz="2.462E-05" />
    </inertial>
    <visual>
      <origin
        xyz="0 0 0"
        rpy="0 0 0" />
      <geometry>
        <mesh
          filename="../meshes/gr1t2/head_pitch_link.STL" />
      </geometry>
      <material
        name="">
        <color
          rgba="0.752941176470588 0.752941176470588 0.752941176470588 1" />
      </material>
    </visual>
    <!-- <collision>
      <origin
        xyz="0 0 0"
        rpy="0 0 0" />
      <geometry>
        <mesh
          filename="../meshes/gr1t2/head_pitch_link.STL" />
      </geometry>
    </collision> -->
  </link>
  <joint
    name="head_pitch_joint"
    type="revolute">
    <origin
      xyz="0 0 0"
      rpy="0 0 0" />
    <parent
      link="head_roll_link" />
    <child
      link="head_pitch_link" />
    <axis
      xyz="0 1 0" />
    <limit
      lower="-0.87"
      upper="0.87"
      effort="3.95"
      velocity="27.96" />
  </joint>
  <link
    name="head_yaw_link">
    <inertial>
      <origin
        xyz="0.02710 -0.00206 0.09577"
        rpy="0 0 0" />
      <mass
        value="1.58" />
      <inertia
        ixx="7.54439E-3"
        ixy="7.210E-5"
        ixz="9.5183E-4"
        iyy="0.01013433"
        iyz="5.051E-5"
        izz="5.65975E-3" />
    </inertial>
    <visual>
      <origin
        xyz="0 0 0"
        rpy="0 0 0" />
      <geometry>
        <mesh
          filename="../meshes/gr1t2/head_yaw_link.STL" />
      </geometry>
      <material
        name="">
        <color
          rgba="0.752941176470588 0.752941176470588 0.752941176470588 1" />
      </material>
    </visual>
    <collision name="head_yaw_link.STL">
      <origin xyz="0.018281080808229797 -0.0008800241069948287 0.0936201800288447" rpy="0 0 0"/>
      <geometry>
        <sphere radius="0.1186868692306477"/>
      </geometry>
    </collision>
  </link>
  <joint
    name="head_yaw_joint"
    type="revolute">
    <origin
      xyz="0 0 0.0513"
      rpy="0 0 0" />
    <parent
      link="head_pitch_link" />
    <child
      link="head_yaw_link" />
    <axis
      xyz="0 0 1" />
    <limit
      lower="-2.71"
      upper="2.71"
      effort="3.95"
      velocity="27.96" />
  </joint>
  <link
    name="imu_link">
    <inertial>
      <origin
        xyz="-0.062133 -1.5129E-06 -0.003126"
        rpy="0 0 0" />
      <mass
        value="0.05" />
      <inertia
        ixx="1.125E-05"
        ixy="0"
        ixz="8.8E-07"
        iyy="1.67E-05"
        iyz="0"
        izz="1.983E-05" />
    </inertial>
    <visual>
      <origin
        xyz="0 0 0"
        rpy="0 0 0" />
      <geometry>
        <mesh
          filename="../meshes/gr1t2/imu_link.STL" />
      </geometry>
      <material
        name="">
        <color
          rgba="0.752941176470588 0.752941176470588 0.752941176470588 1" />
      </material>
    </visual>
    <!-- <collision>
      <origin
        xyz="0 0 0"
        rpy="0 0 0" />
      <geometry>
        <mesh
          filename="../meshes/gr1t2/imu_link.STL" />
      </geometry>
    </collision> -->
  </link>
  <joint
    name="imu_joint"
    type="fixed">
    <origin
      xyz="0 0 -0.0595999999999995"
      rpy="0 0 0" />
    <parent
      link="base_link" />
    <child
      link="imu_link" />
    <axis
      xyz="0 0 0" />
  </joint>
</robot>
